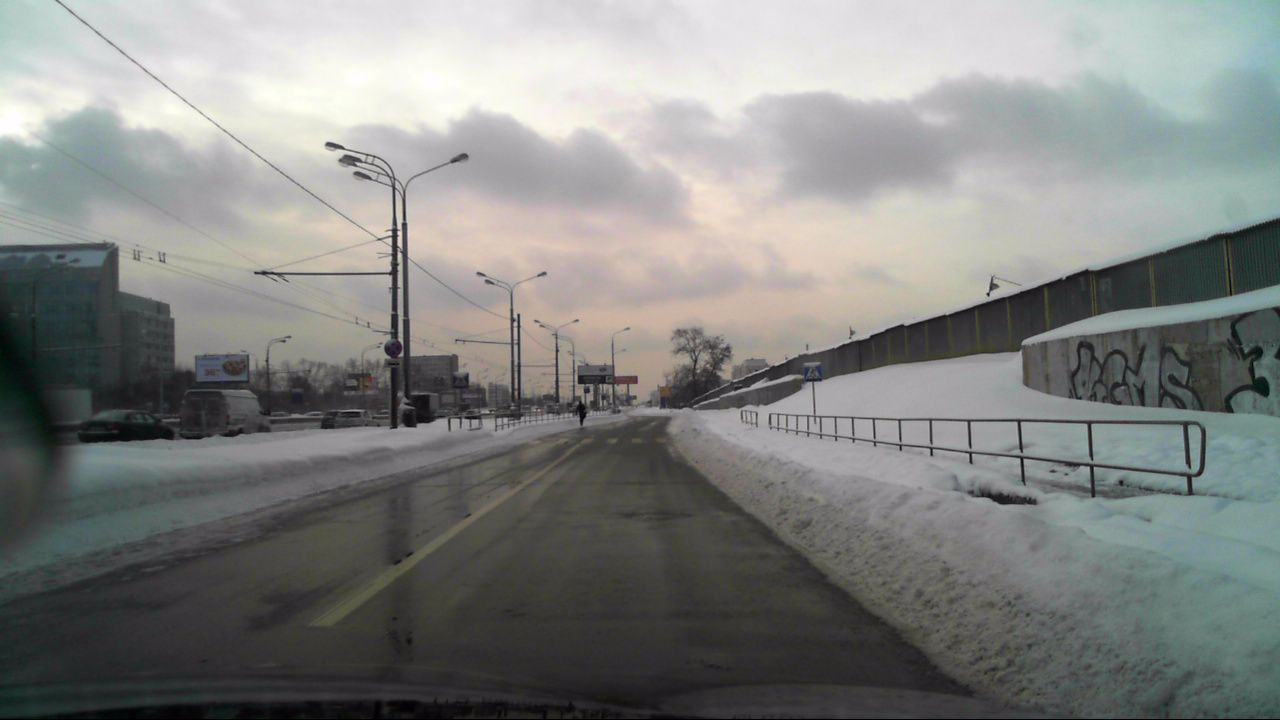No Parking: (383, 338, 402, 357)
